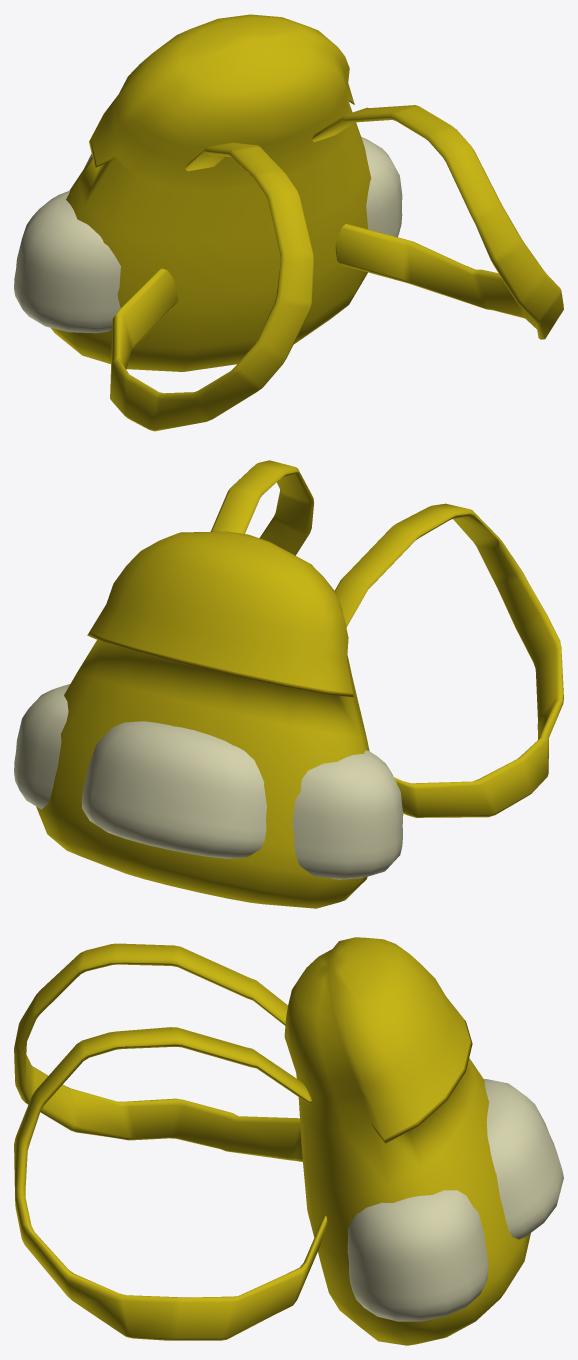
3 renders of one model, top to bottom at view 1: azimuth 30°, elevation 25°; view 2: azimuth 150°, elevation 25°; view 3: azimuth 270°, elevation 25°, orthographic. The views are drawn at different scales.
Visible parts, largest first — view 1: acessoiresBackpack; view 2: acessoiresBackpack; view 3: acessoiresBackpack.
Boxes of the visible parts, box(x1,y1,x2,y2) form: acessoiresBackpack: box(14, 14, 563, 431); acessoiresBackpack: box(14, 460, 563, 908); acessoiresBackpack: box(14, 937, 563, 1345).
Size of the model in its own units: 0.5228 by 0.4117 by 0.589.
Materials: 1 (1 with a texture image).
